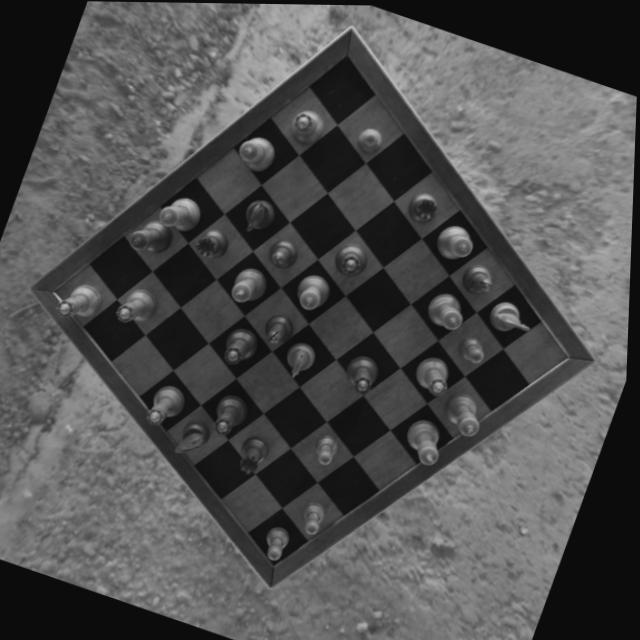chess-table-corners: (551, 336, 591, 376), (324, 45, 366, 81), (260, 544, 297, 570), (44, 279, 73, 307)
